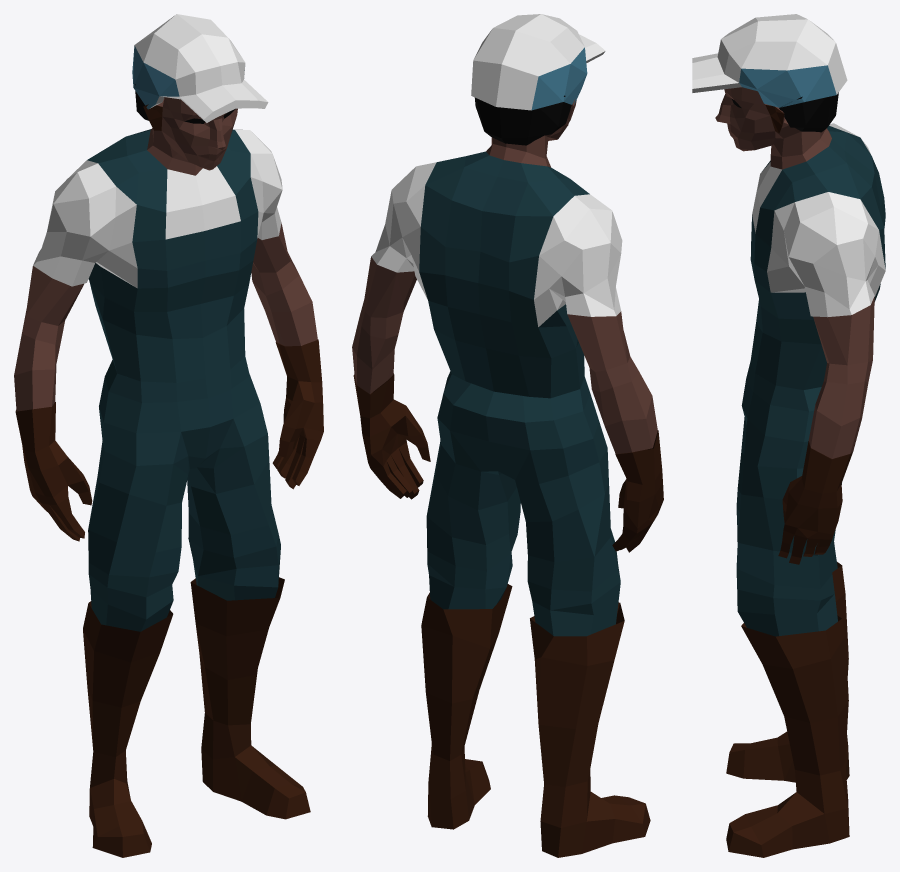
Rendered from Male_03.FBX.
3 renders of one model, left to right at view 1: azimuth 30°, elevation 25°; view 2: azimuth 150°, elevation 25°; view 3: azimuth 270°, elevation 25°, orthographic.
Parts seen in each view (by area): view 1: Male_03; view 2: Male_03; view 3: Male_03.
Boxes of the visible parts, bbox=[...] form: Male_03: bbox=[14, 14, 323, 857]; Male_03: bbox=[352, 14, 663, 857]; Male_03: bbox=[692, 14, 885, 857].
Bounding box in the file's own units: 0.712 × 1.81 × 0.4024.
1 material, 1 textured.
